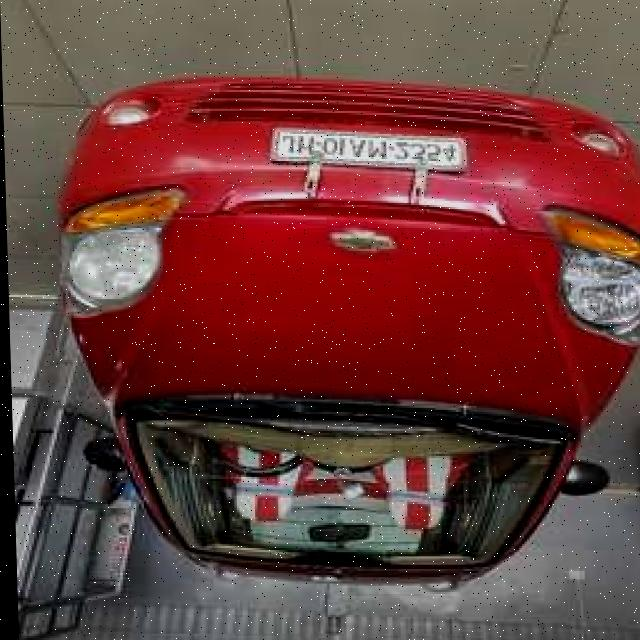plate: (271, 127, 468, 171)
